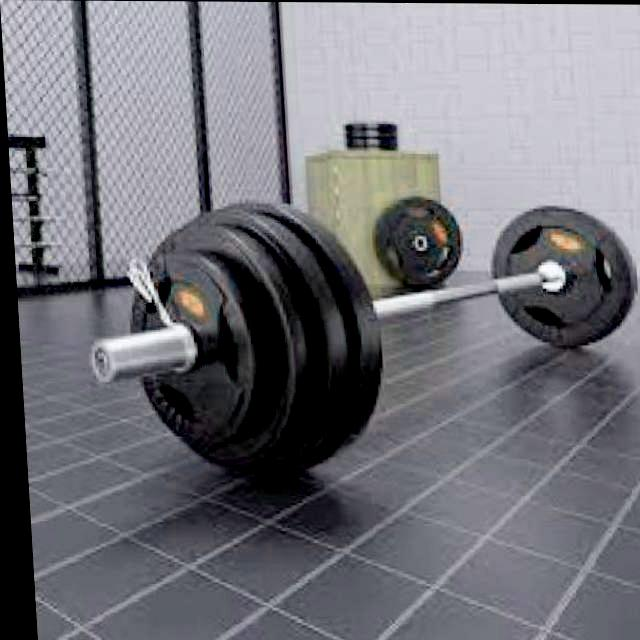barbell: (70, 198, 291, 480)
